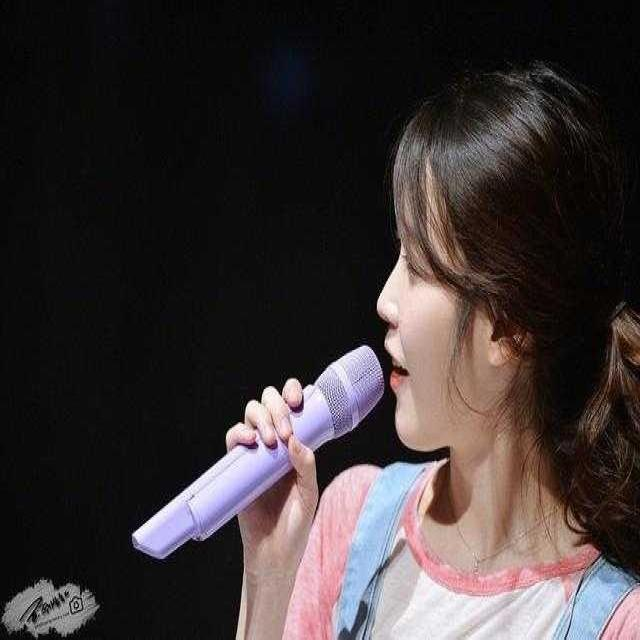microphone: (136, 336, 386, 564)
